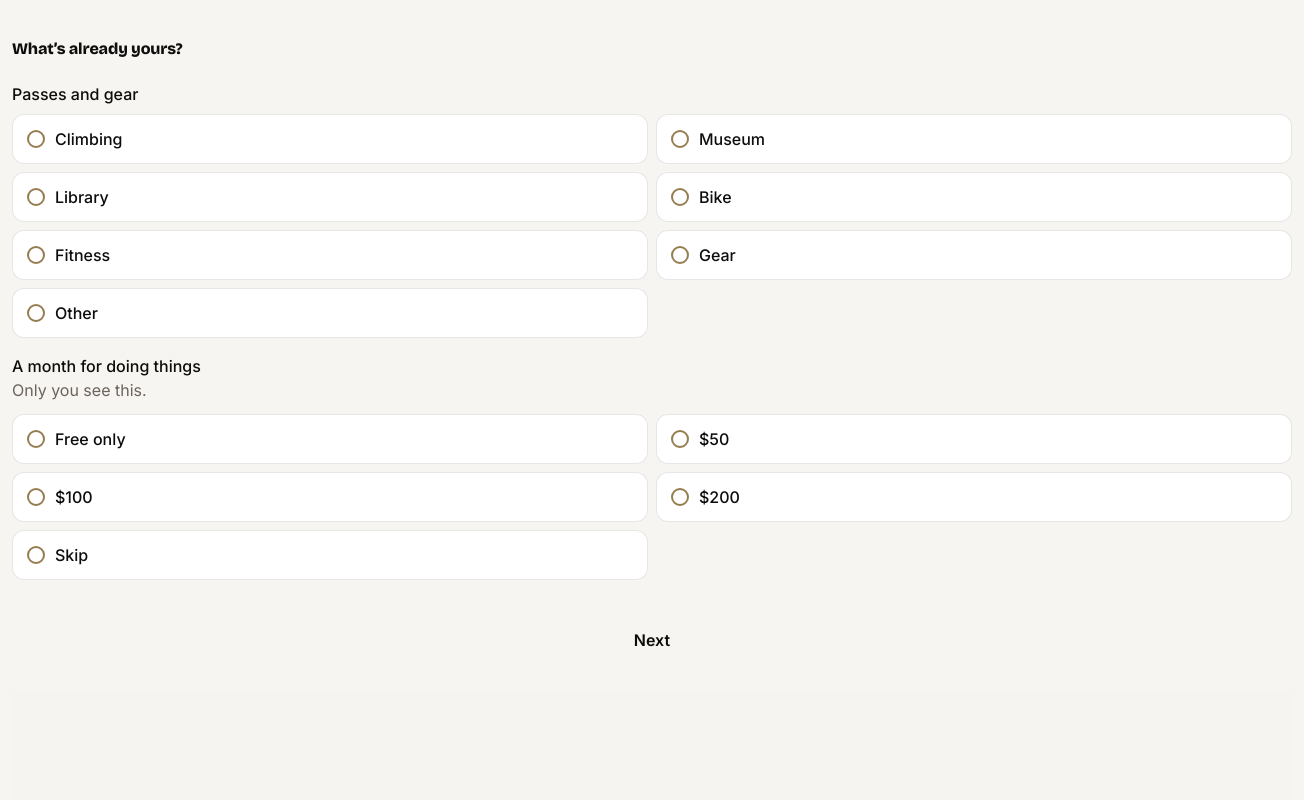
Test: yours (screen 9) › adds a pass per kind with Stubby showing it's yours, and takes it off on a second tap
This screenshot has width=1304, height=800.
Click the button "Climbing" at [89, 139], box [12, 114, 648, 164]
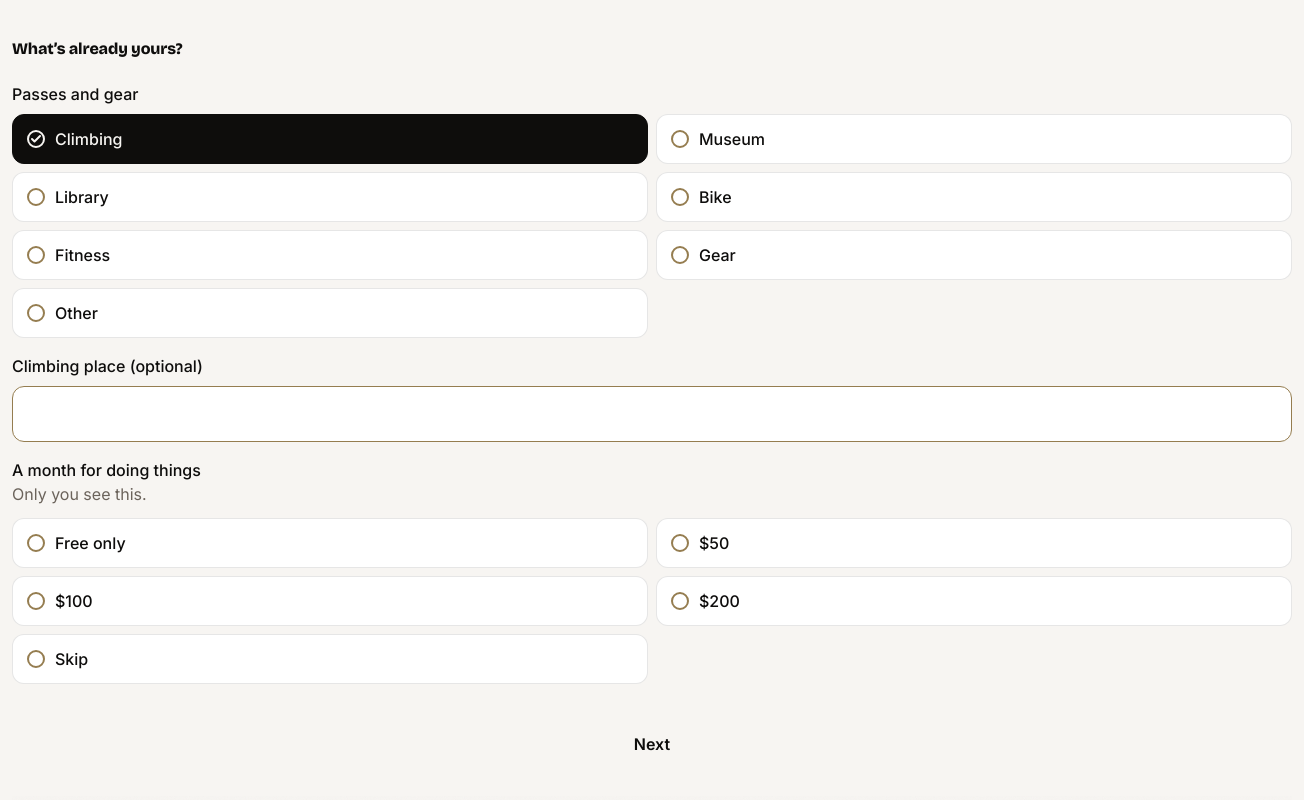
expect the button "Climbing" is pressed: met, box [12, 114, 648, 164]
Type "Brooklyn Boulders" into the field labelled "Climbing place (optional)" at [652, 414], box [12, 386, 1292, 442]
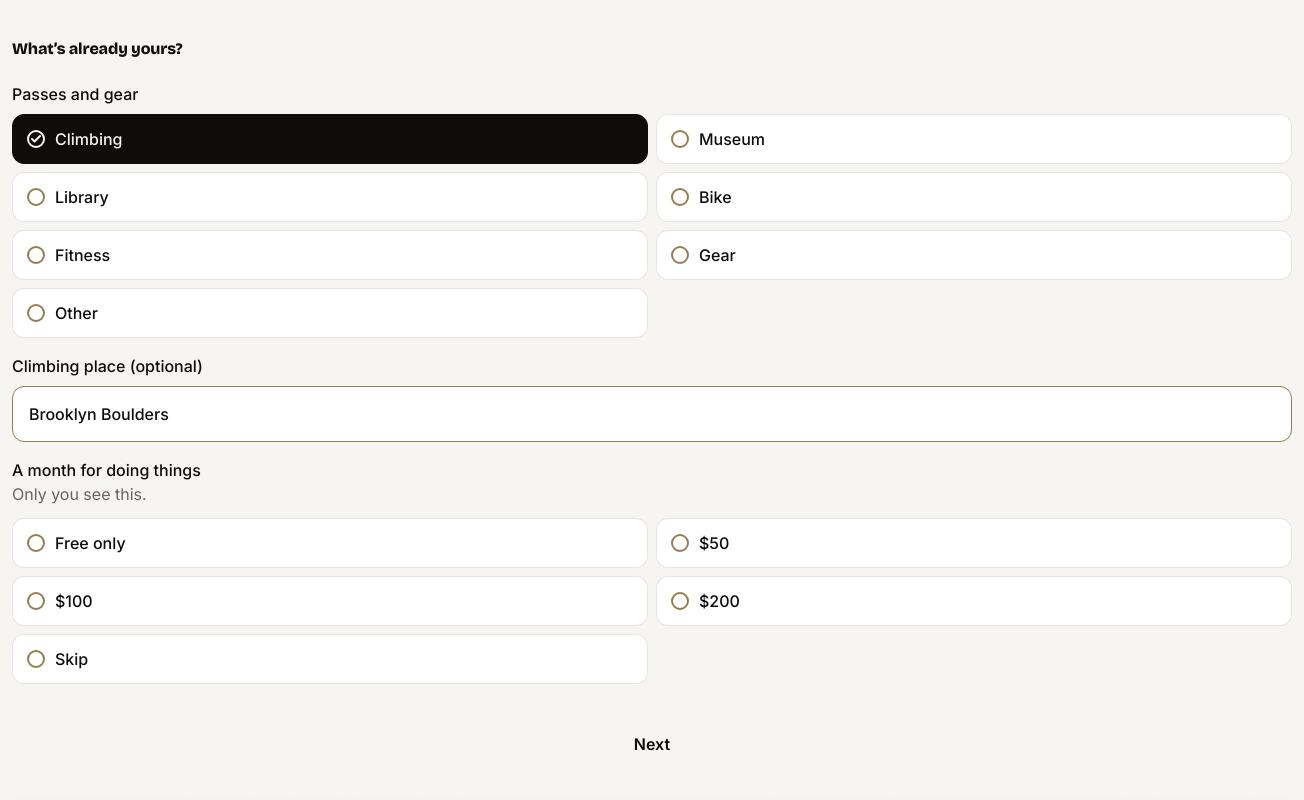
Click the button "Museum" at [732, 139], box [656, 114, 1292, 164]
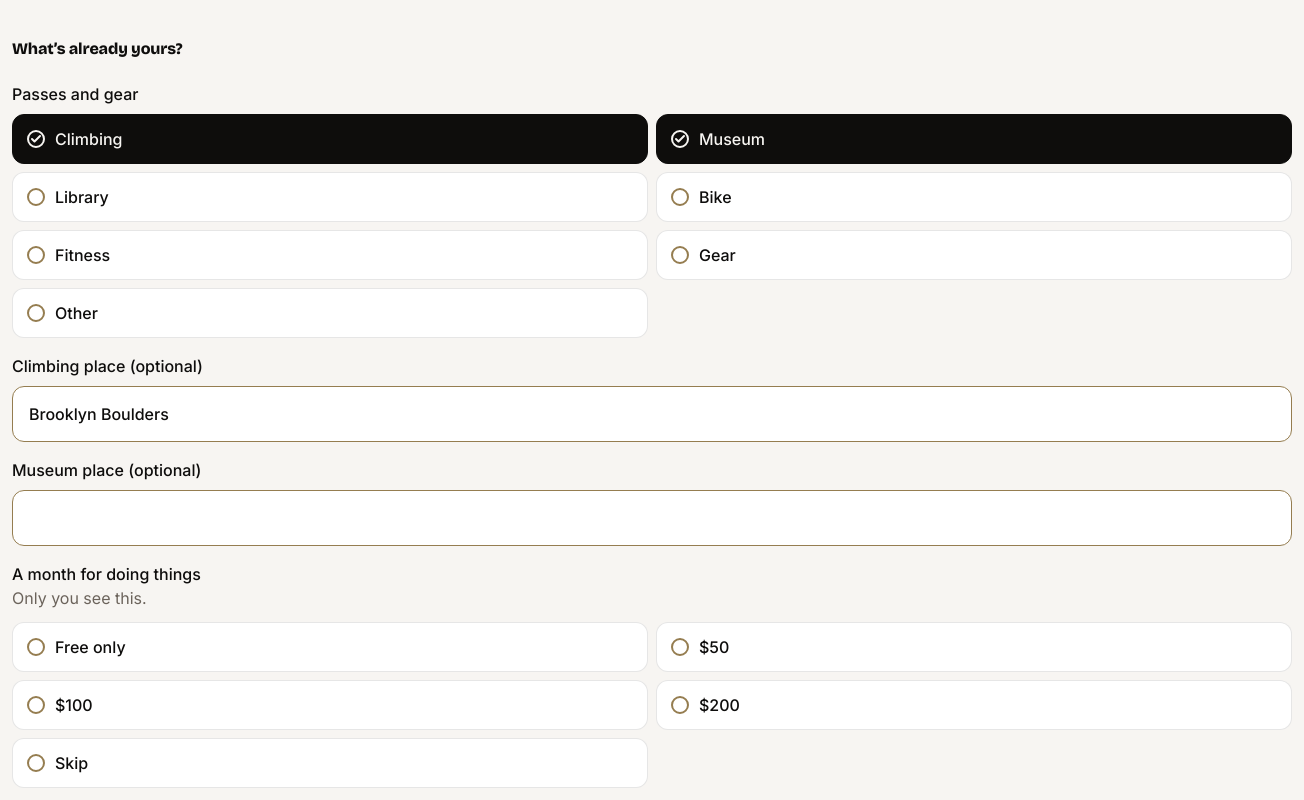
Click the button "Climbing" at [89, 139], box [12, 114, 648, 164]
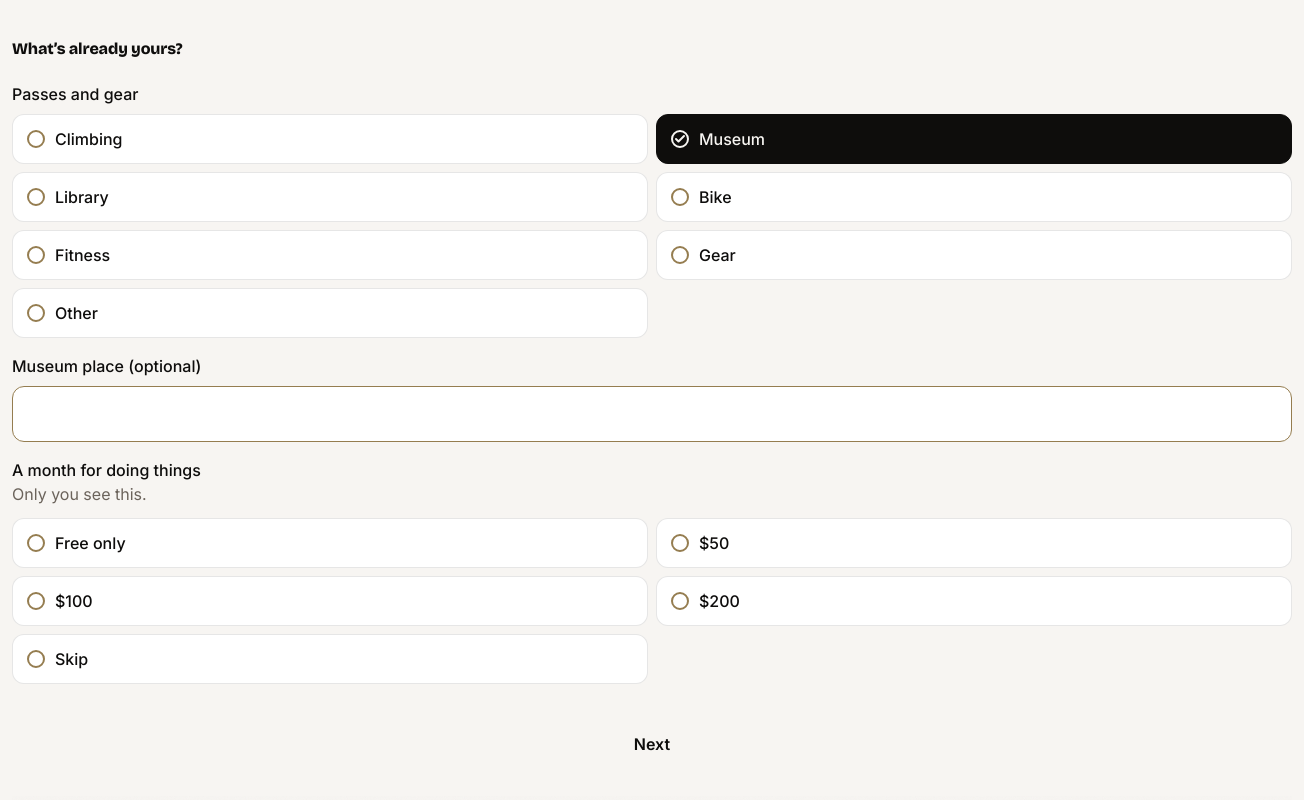
expect the label labelled "Climbing place (optional)" is gone: met
